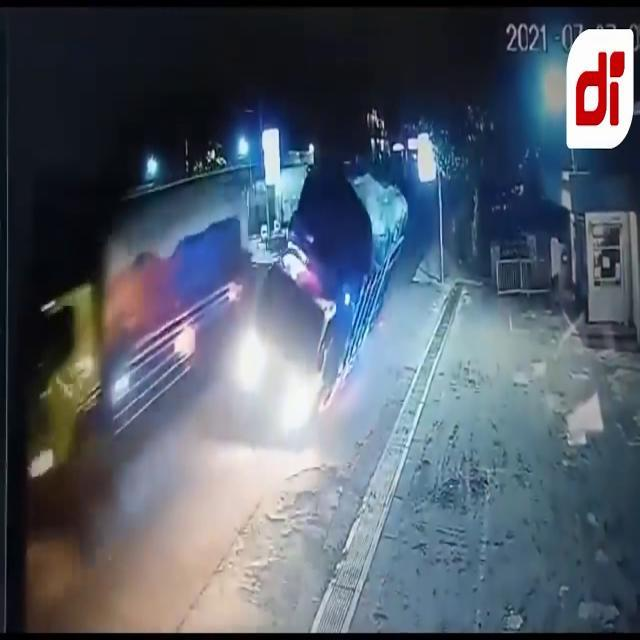multiple_accident: (1, 7, 239, 606), (240, 90, 437, 483)
